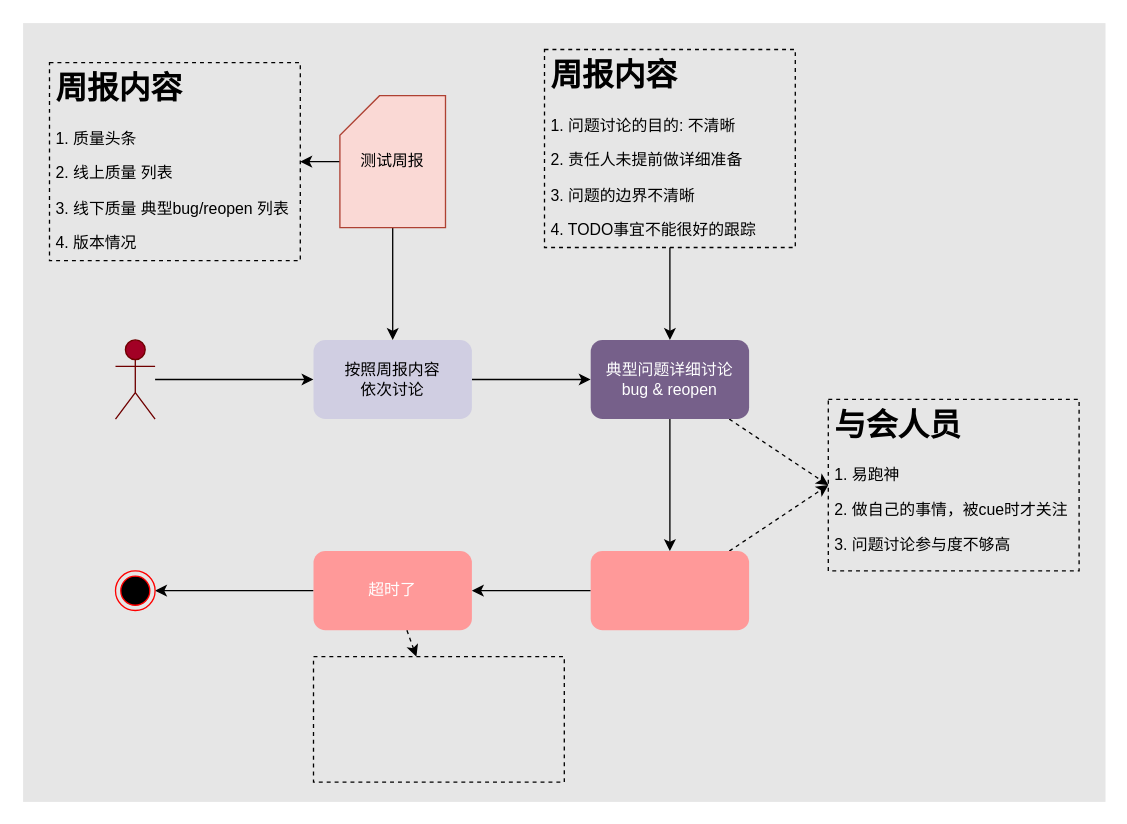
Some shapes in this 1127 by 824 pixel diagram are drawn without their labels. The shapes that lost their labels are listed below. From the top down, each one's centre as x and y in pixels, then its label:
At (134,379): "测试同学".
At (669,590): "其他问题讨论".
At (438,718): "时间控制 1. 很容易超时 2. 大家反响比较强烈".
